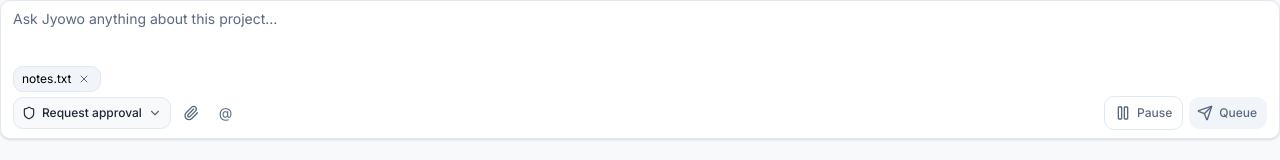
Test: TaskComposer › disables only duplicate submission while a request is in flight
The width and height of the screenshot is (1280, 160).
Step 1. Type "Queue once" into the text box with placeholder "Ask Jyowo anything about this project…" → (640,31), box [13,9,1267,53]
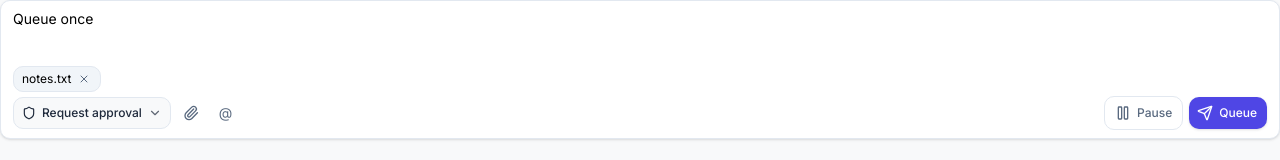
Step 2. Click the button with aria-label "Queue message" → (1228,113), box [1189,97,1267,129]
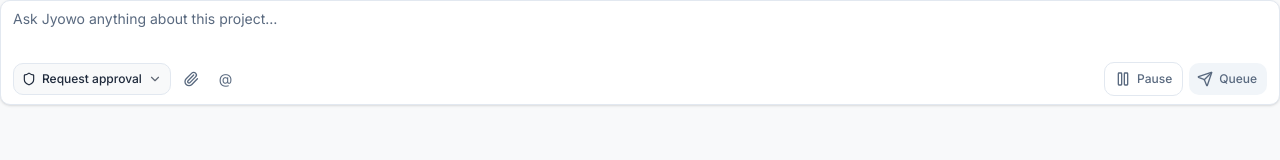
Expected: the text box with placeholder "Ask Jyowo anything about this project…" is enabled, [13,9,1267,53]
Now the button with aria-label "Queue message" is disabled, box [1189,63,1267,95]
